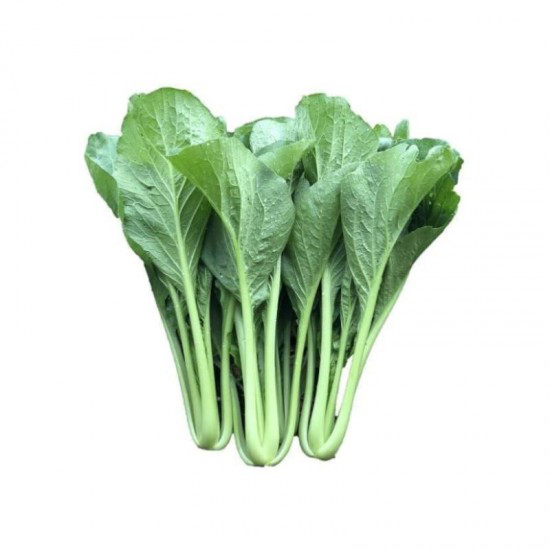Sawi: (80, 61, 478, 477)
